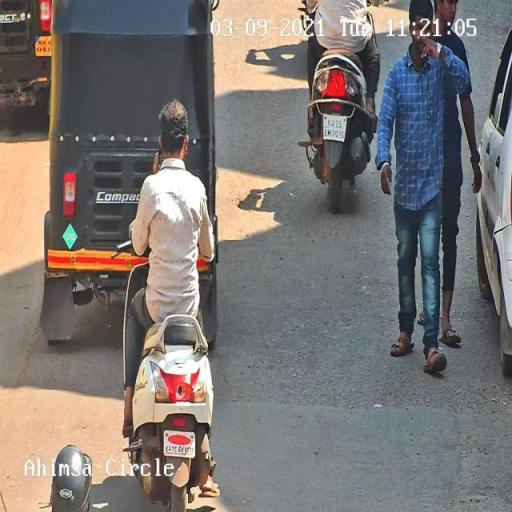using mobile: (155, 133, 166, 173)
